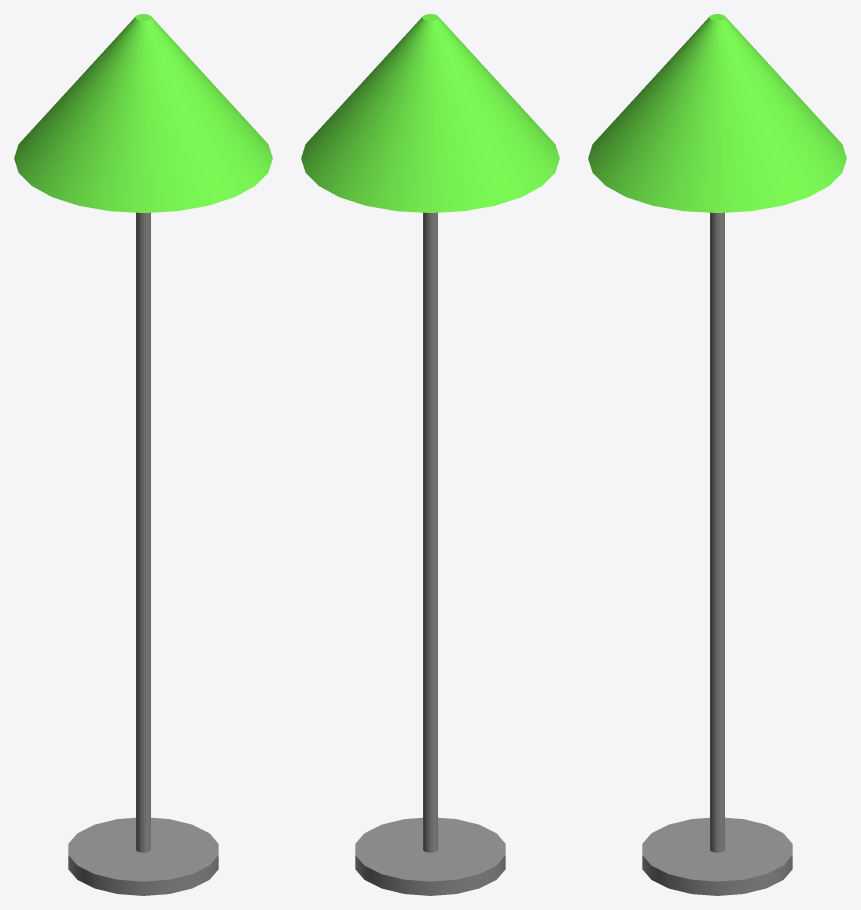
The model's file is lamp 3 - cone.FBX.
3 views of the same model, side by side, from view 1: azimuth 30°, elevation 25°; view 2: azimuth 150°, elevation 25°; view 3: azimuth 270°, elevation 25° (orthographic).
Parts seen in each view (by area): view 1: Cylinder001; view 2: Cylinder001; view 3: Cylinder001.
Part boxes in pixels (box(x1,y1,x2,y2)): Cylinder001: box(14, 14, 272, 895); Cylinder001: box(301, 14, 559, 895); Cylinder001: box(588, 14, 846, 895).
Size of the model in its own units: 33.93 by 122 by 33.93.
